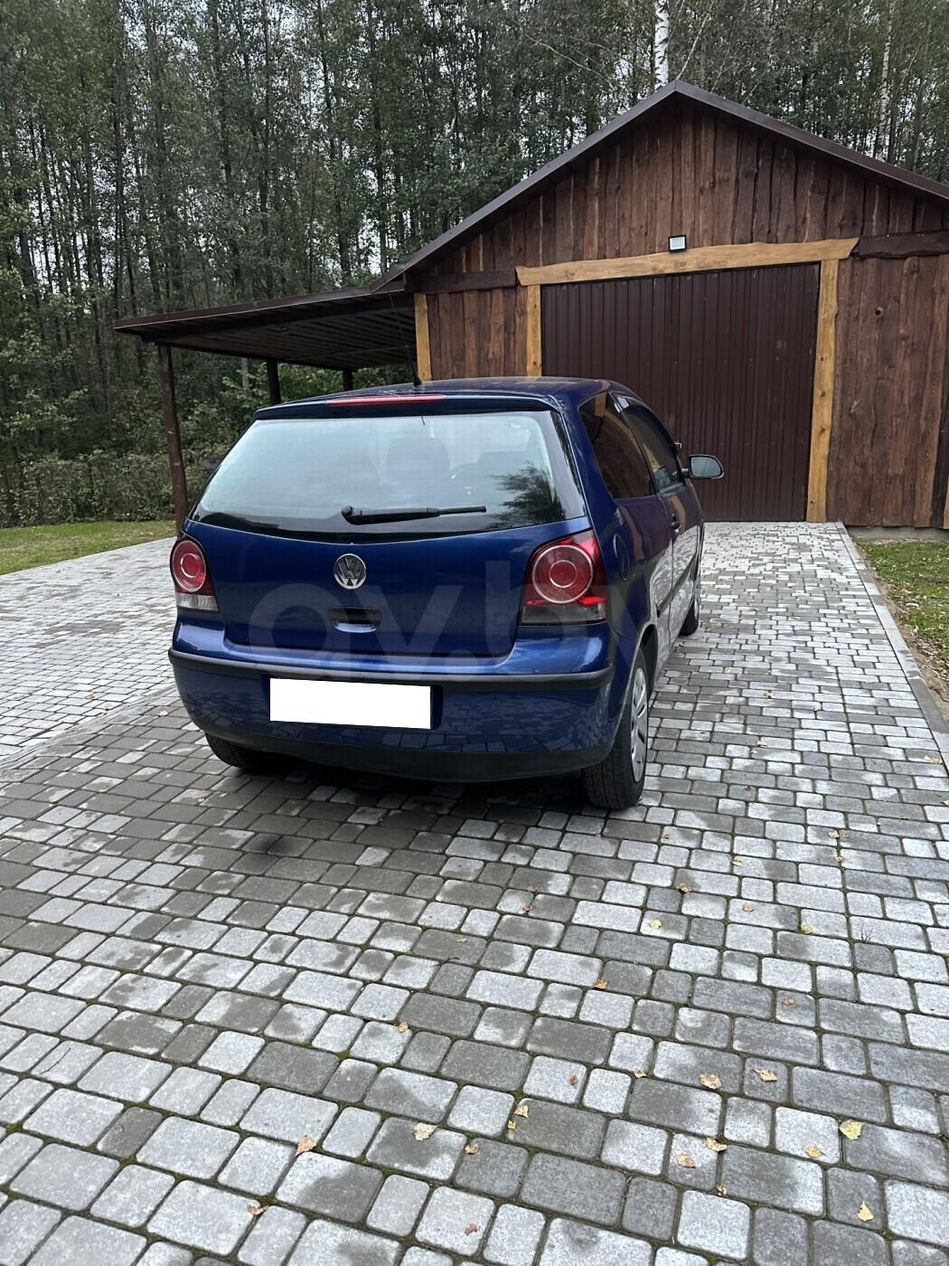Polo_2005-2009: (158, 367, 740, 805)
